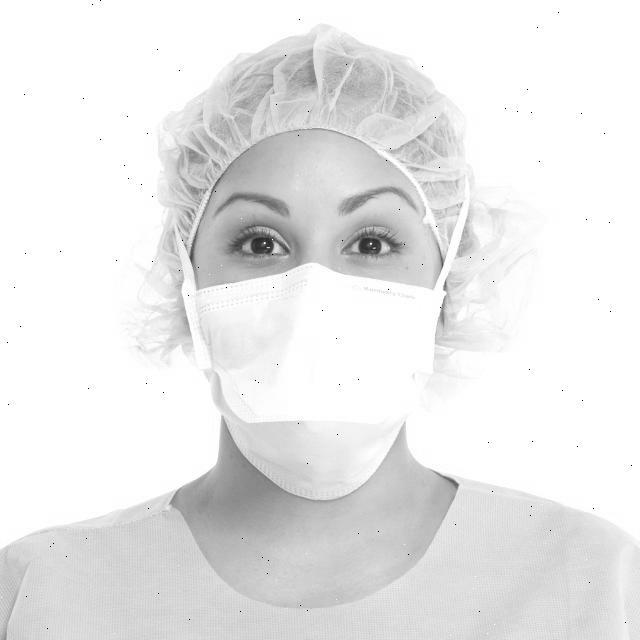fake: (181, 265, 451, 504)
real: (192, 125, 445, 508)
